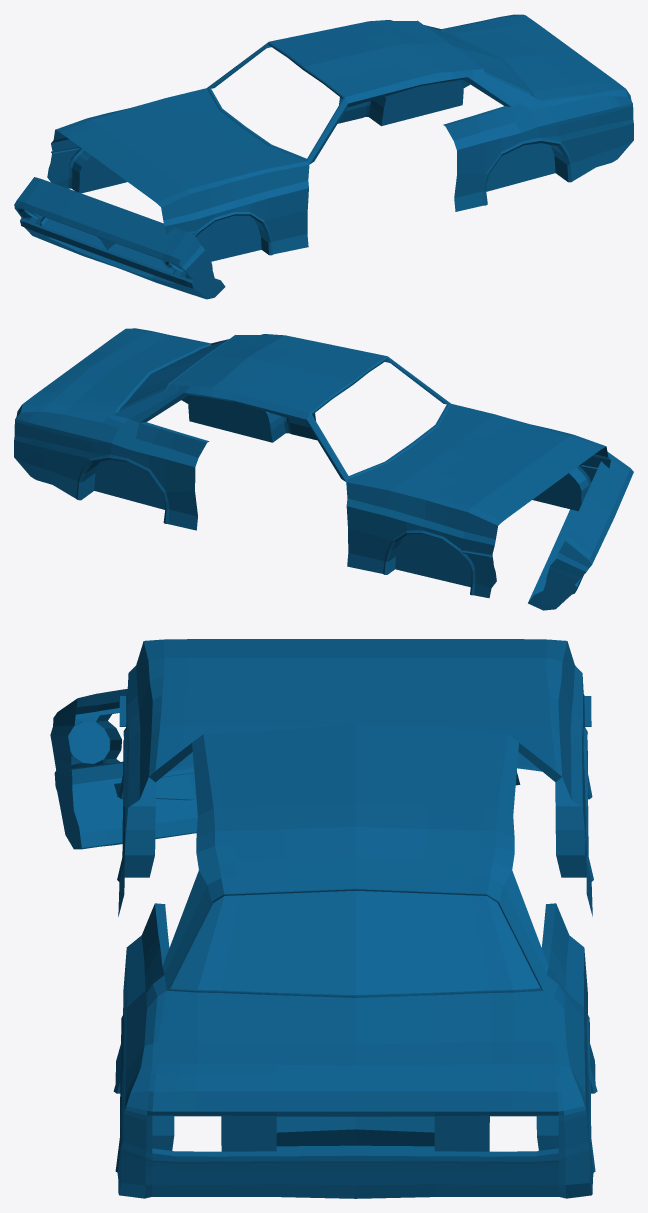
Rendered from CarCrash1.fbx.
3 renders of one model, top to bottom at view 1: azimuth 30°, elevation 25°; view 2: azimuth 150°, elevation 25°; view 3: azimuth 270°, elevation 25°, orthographic. The views are drawn at different scales.
Visible parts, largest first — view 1: Cube.009, Cube.010; view 2: Cube.009, Cube.010; view 3: Cube.009, Cube.010.
Part boxes in pixels (<box>): Cube.009: <box>47,14,633,269</box>; Cube.010: <box>14,177,225,299</box>; Cube.009: <box>14,328,610,598</box>; Cube.010: <box>528,451,633,610</box>; Cube.009: <box>113,639,597,1198</box>; Cube.010: <box>50,689,520,849</box>.
Size of the model in its own units: 677 by 170 by 298.
